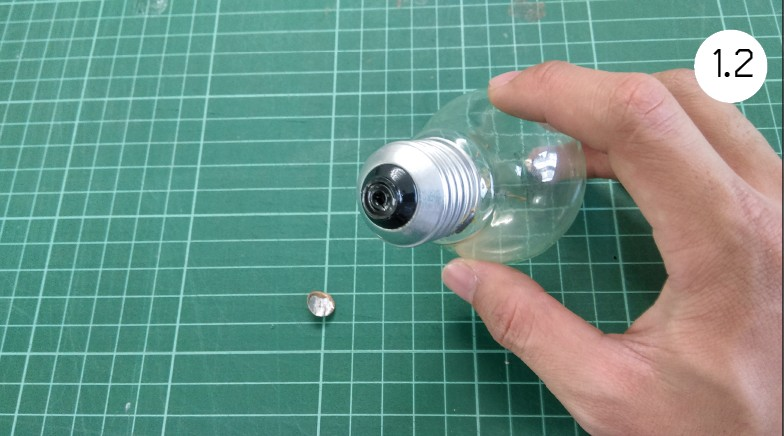Light_bulb: (353, 81, 604, 283)
